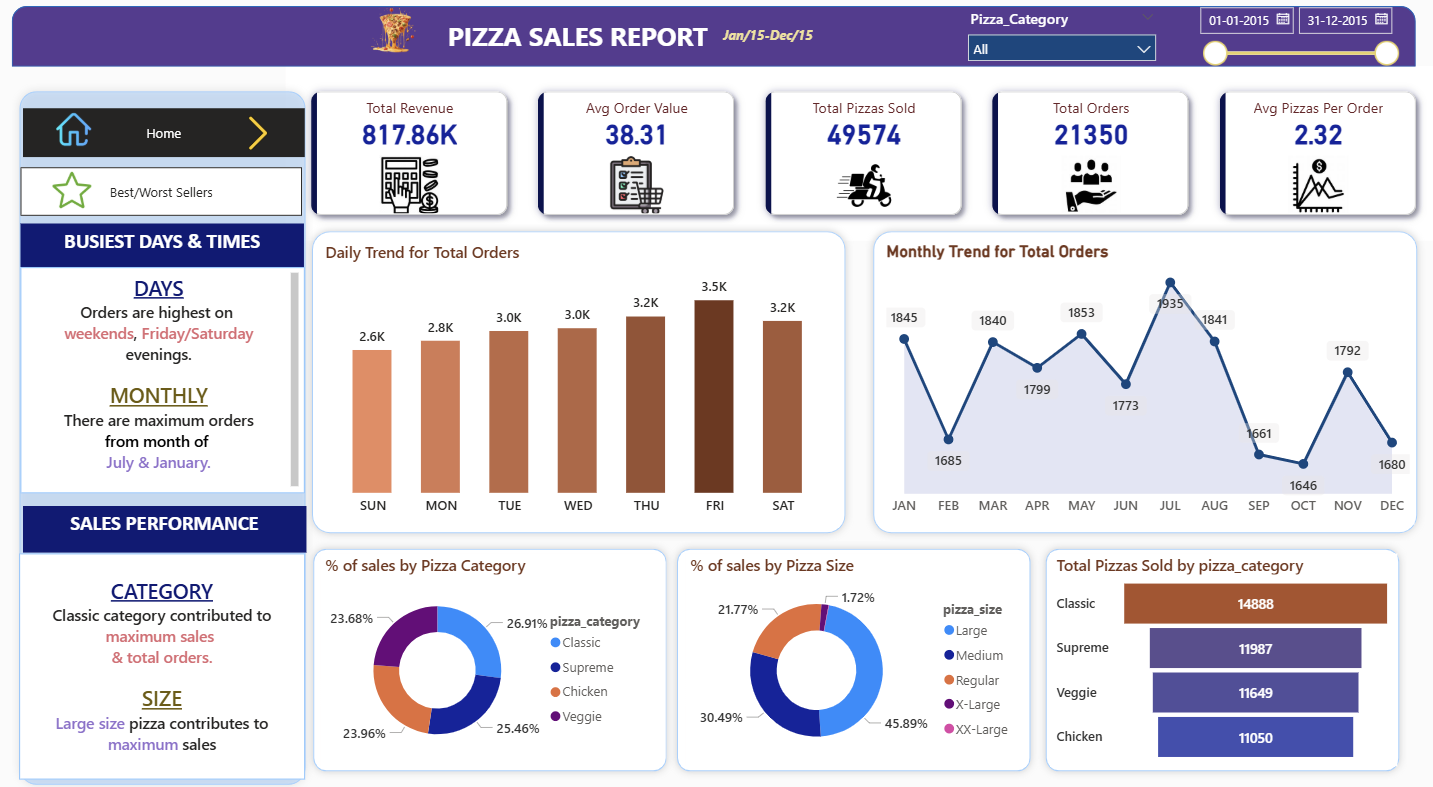

What the dashboard file says about the page in this screenshot:
{"tool":"powerbi","page":{"name":"Home","canvas":[1500,820],"ordinal":0},"visuals":[{"type":"cardVisual","fields":{"Data":["pizza_sales.Total Revenue","pizza_sales.Avg Order Value","pizza_sales.Total Pizzas Sold","pizza_sales.Total Orders","pizza_sales.Avg Pizzas Per Order"]},"box":[306.6,72.2,1193.7,179.9],"z":0},{"type":"shape","box":[25,10,1446.2,62.5],"z":1000},{"type":"textbox","box":[468.8,17.7,278,47.7],"z":2000},{"type":"textbox","box":[752.2,25.9,121.3,31.3],"z":3000},{"type":"shape","box":[24.5,89.9,310.7,730.4],"z":4000},{"type":"image","box":[392.4,1.4,51.8,68.1],"z":5000},{"type":"shape","box":[325.7,234.4,565.5,327],"z":6000},{"type":"clusteredColumnChart","title":"Daily Trend for Total Orders","fields":{"Category":["pizza_sales.Order Day"],"Y":["pizza_sales.Total Orders"]},"box":[342,252.1,531.4,291.6],"z":7000},{"type":"shape","box":[903.4,234.4,576.4,327],"z":8000},{"type":"areaChart","title":"Monthly Trend for Total Orders","fields":{"Y":["pizza_sales.Total Orders"],"Category":["pizza_sales.Order Month"]},"box":[921.2,252.1,549.1,291.6],"z":9000},{"type":"shape","box":[327,561.4,380,245.3],"z":10000},{"type":"shape","box":[701.8,561.4,380.2,245.3],"z":11000},{"type":"shape","box":[1081.9,561.4,380.2,245.3],"z":12000},{"type":"donutChart","title":"% of sales by Pizza Category","fields":{"Category":["pizza_sales.pizza_category"],"Y":["pizza_sales.Total Revenue"]},"box":[342,573.7,350.2,219.4],"z":13000},{"type":"donutChart","title":"% of sales by Pizza Size","fields":{"Y":["pizza_sales.Total Revenue"],"Category":["pizza_sales.pizza_size"]},"box":[718.1,573.7,350.2,219.4],"z":14000},{"type":"funnel","fields":{"Category":["pizza_sales.pizza_category"],"Y":["pizza_sales.Total Pizzas Sold"]},"box":[1095.6,573.7,355.7,219.4],"z":15000},{"type":"textbox","box":[34.1,234.4,291.6,45],"z":16000},{"type":"textbox","box":[34.1,279.3,293,233],"z":17000},{"type":"textbox","box":[35.4,526,291.6,47.7],"z":18000},{"type":"textbox","box":[32.7,573.7,294.3,233],"z":19000},{"type":"slicer","fields":{"Values":["pizza_sales.pizza_category"]},"box":[998.8,8.2,213.9,60],"z":20000},{"type":"slicer","fields":{"Values":["pizza_sales.order_date"]},"box":[1235.9,1.4,226.2,79],"z":21000},{"type":"pageNavigator","box":[35.4,115.8,290.2,50.4],"z":22000},{"type":"pageNavigator","box":[34.1,175.8,290,50],"z":23000},{"type":"image","box":[222.1,124,113.1,35.4],"z":24000},{"type":"image","box":[62.7,119.9,50.4,35.4],"z":25000},{"type":"image","box":[58.6,179.9,54.5,39.5],"z":26000}]}

Visuals, with their boxes in screenshot pixels (x1, y1, x2, y2), scaled from the page's 1500x820 canvas onto the 1433x787 screenshot:
cardVisual - pizza_sales.Total Revenue x pizza_sales.Avg Order Value: left=293, top=69, right=1432, bottom=242
shape: left=24, top=10, right=1405, bottom=70
textbox: left=448, top=17, right=713, bottom=63
textbox: left=719, top=25, right=834, bottom=55
shape: left=23, top=86, right=320, bottom=786
image: left=375, top=1, right=424, bottom=67
shape: left=311, top=225, right=851, bottom=539
"Daily Trend for Total Orders" clusteredColumnChart: left=327, top=242, right=834, bottom=522
shape: left=863, top=225, right=1414, bottom=539
"Monthly Trend for Total Orders" areaChart: left=880, top=242, right=1405, bottom=522
shape: left=312, top=539, right=675, bottom=774
shape: left=670, top=539, right=1034, bottom=774
shape: left=1034, top=539, right=1397, bottom=774
"% of sales by Pizza Category" donutChart: left=327, top=551, right=661, bottom=761
"% of sales by Pizza Size" donutChart: left=686, top=551, right=1021, bottom=761
funnel - pizza_sales.pizza_category x pizza_sales.Total Pizzas Sold: left=1047, top=551, right=1386, bottom=761
textbox: left=33, top=225, right=311, bottom=268
textbox: left=33, top=268, right=312, bottom=492
textbox: left=34, top=505, right=312, bottom=551
textbox: left=31, top=551, right=312, bottom=774
slicer - pizza_sales.pizza_category: left=954, top=8, right=1159, bottom=65
slicer - pizza_sales.order_date: left=1181, top=1, right=1397, bottom=77
pageNavigator: left=34, top=111, right=311, bottom=160
pageNavigator: left=33, top=169, right=310, bottom=217
image: left=212, top=119, right=320, bottom=153
image: left=60, top=115, right=108, bottom=149
image: left=56, top=173, right=108, bottom=211
